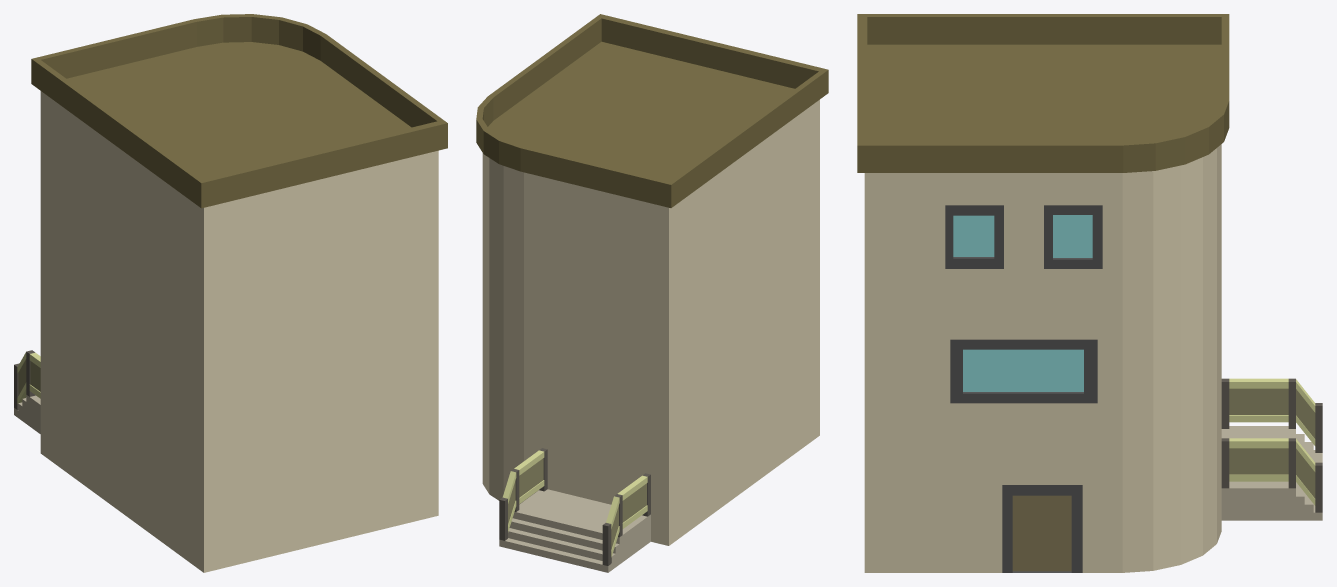
File: random res build 5.fbx
3 views of the same model, side by side, from view 1: azimuth 30°, elevation 25°; view 2: azimuth 150°, elevation 25°; view 3: azimuth 270°, elevation 25° (orthographic). The views are drawn at different scales.
Visible parts, largest first — view 1: building_005; view 2: building_005; view 3: building_005.
Part boxes in pixels (<box>): building_005: <box>14,14,447,572</box>; building_005: <box>476,14,828,572</box>; building_005: <box>857,14,1322,572</box>.
Bounding box in the file's own units: 2058 × 3142 × 3076.
